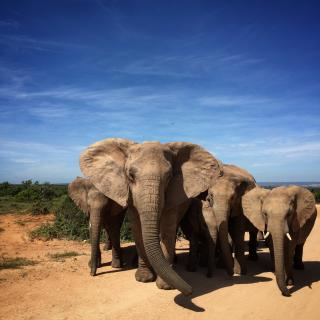Elephant: (78, 135, 222, 310), (240, 180, 318, 302), (191, 157, 261, 284), (61, 175, 132, 280)
